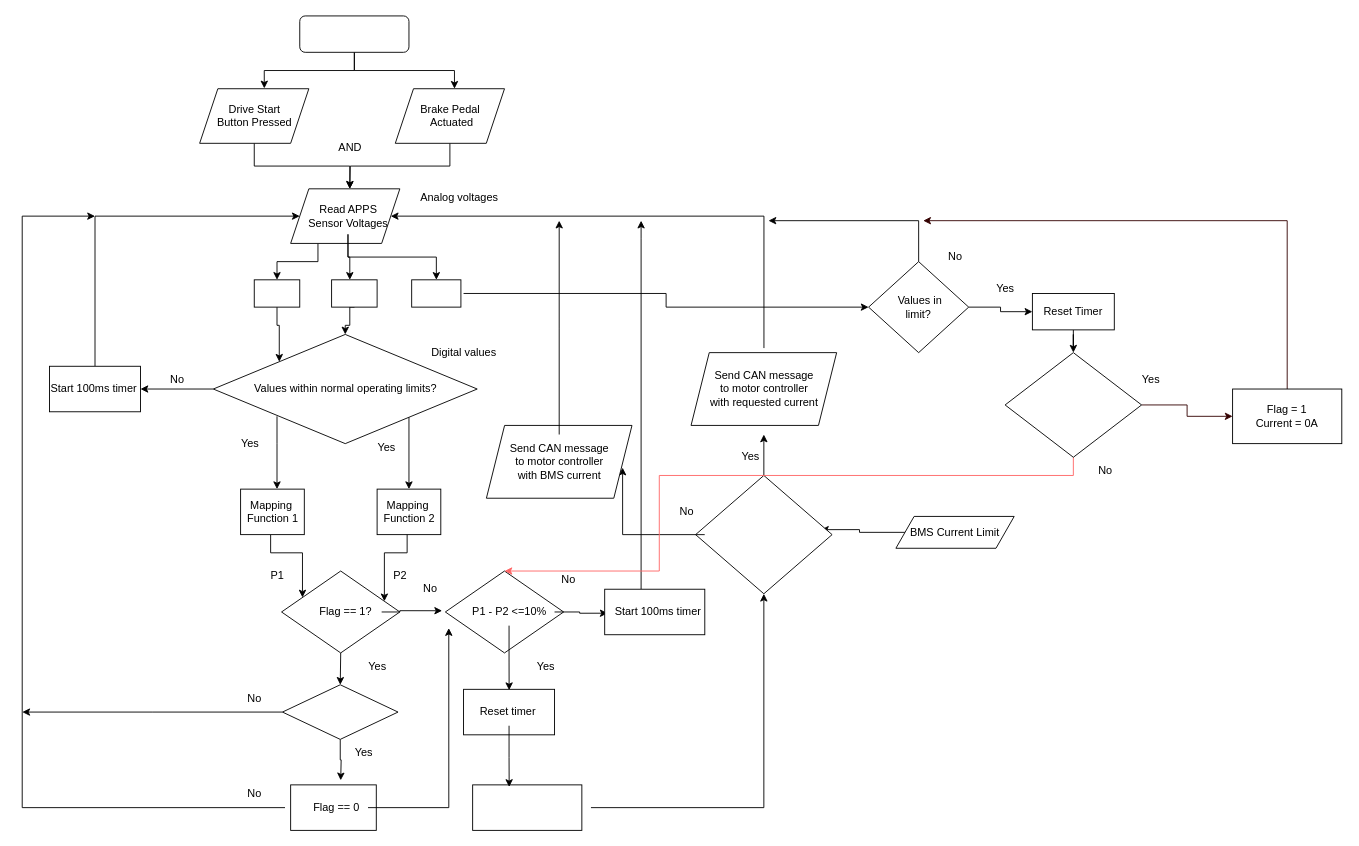
Some shapes in this 1359 by 846 pixel diagram are drawn without their labels. Here are the shapes that lost their labels. From the top down, the centre of each, then its label:
At pixel 354 33: "GLV/TS master switch active".
At pixel 276 293: "ADC 1".
At pixel 354 293: "ADC 2".
At pixel 436 293: "ADC 3".
At pixel 1073 404: "|P1| > 25% && Breaks are pressed".
At pixel 763 534: "Requested Current <= BMS Current Limit".
At pixel 340 711: "|P1| < 5%?".
At pixel 527 807: "Convert Pedal Travel to requested current".
